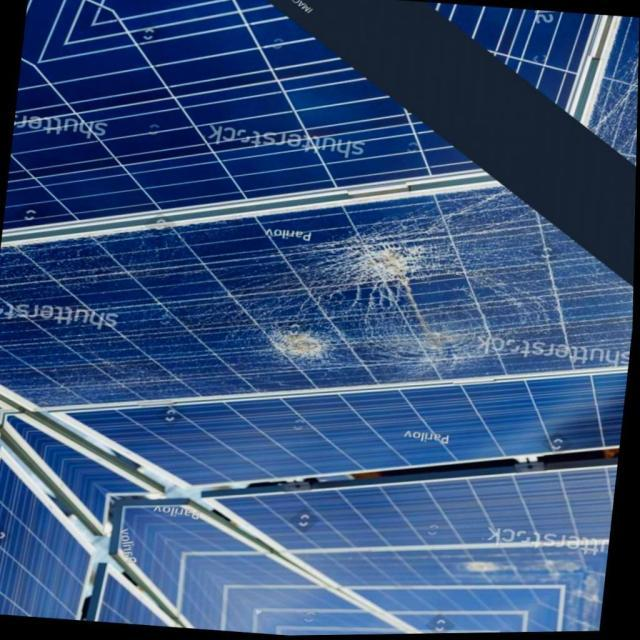cracked: (8, 192, 638, 406), (434, 538, 612, 640), (579, 15, 640, 163)
